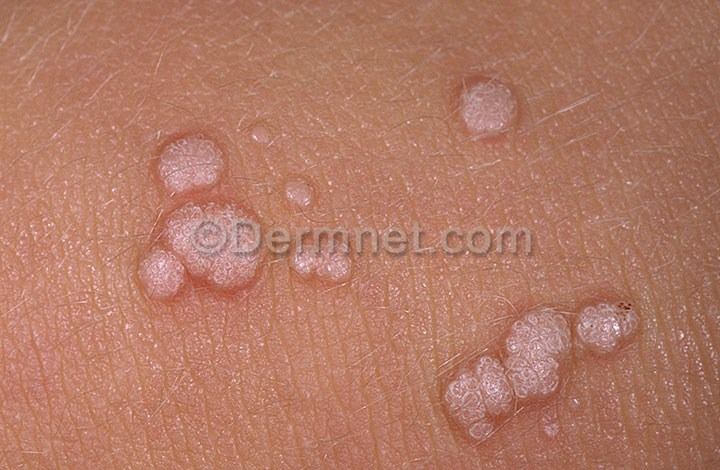Warts: (424, 283, 657, 454), (446, 60, 526, 146), (145, 120, 231, 200)
